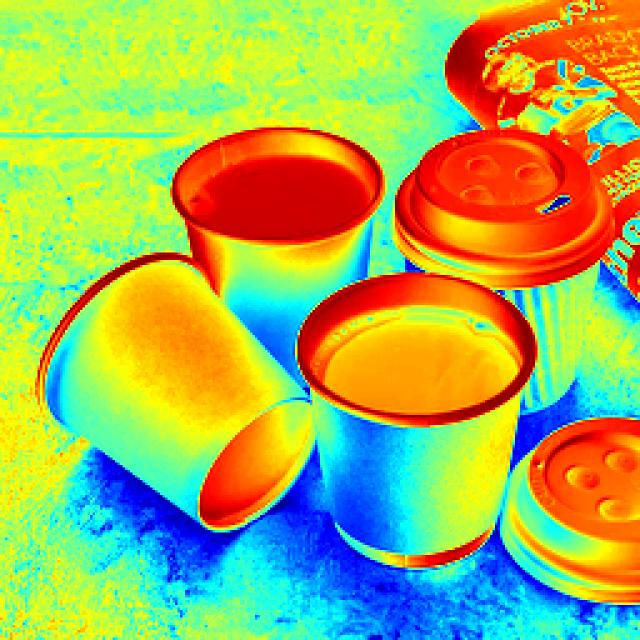Paper Cups: (278, 245, 534, 588), (52, 229, 298, 565), (383, 106, 629, 326), (146, 116, 400, 305), (489, 374, 640, 618)
